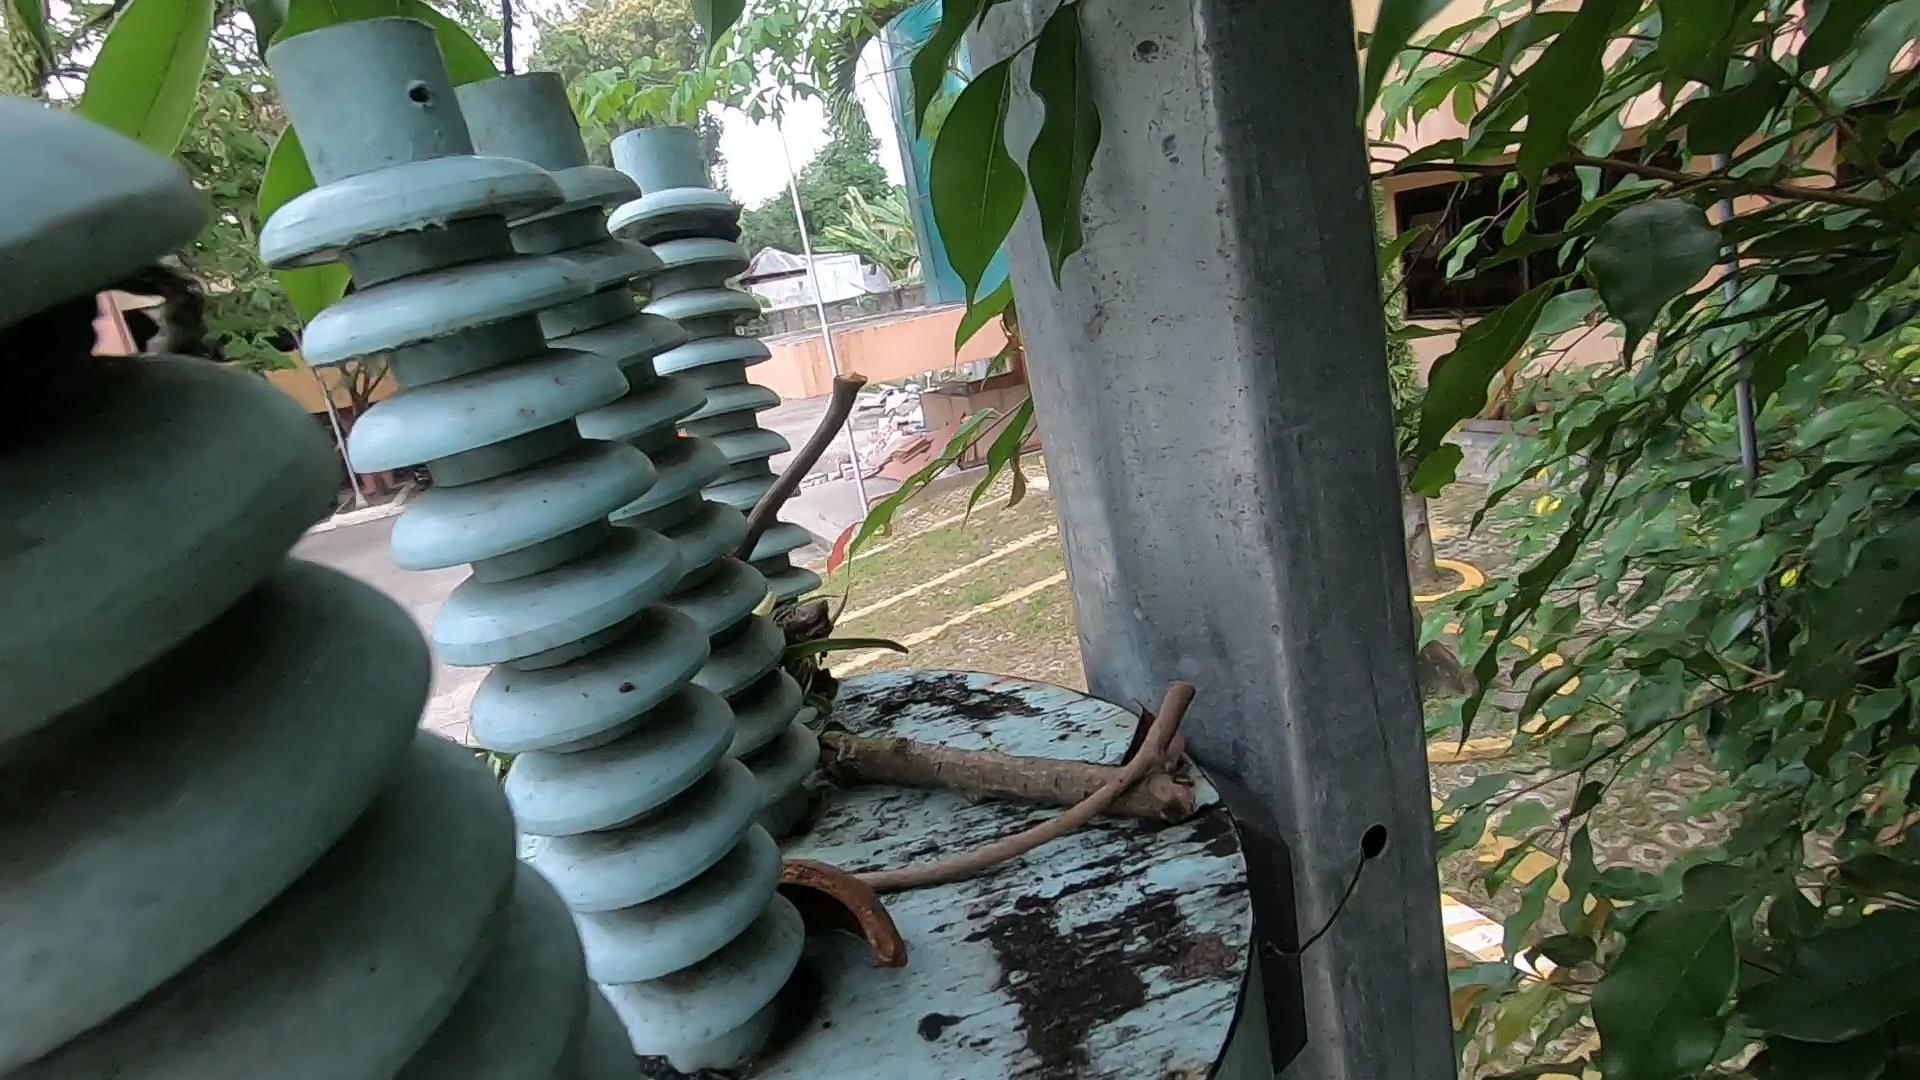branch with leaves: (816, 707, 1228, 829)
mahogany fruit: (774, 853, 913, 1000)
tree branch: (829, 653, 1228, 923), (789, 295, 909, 593)
